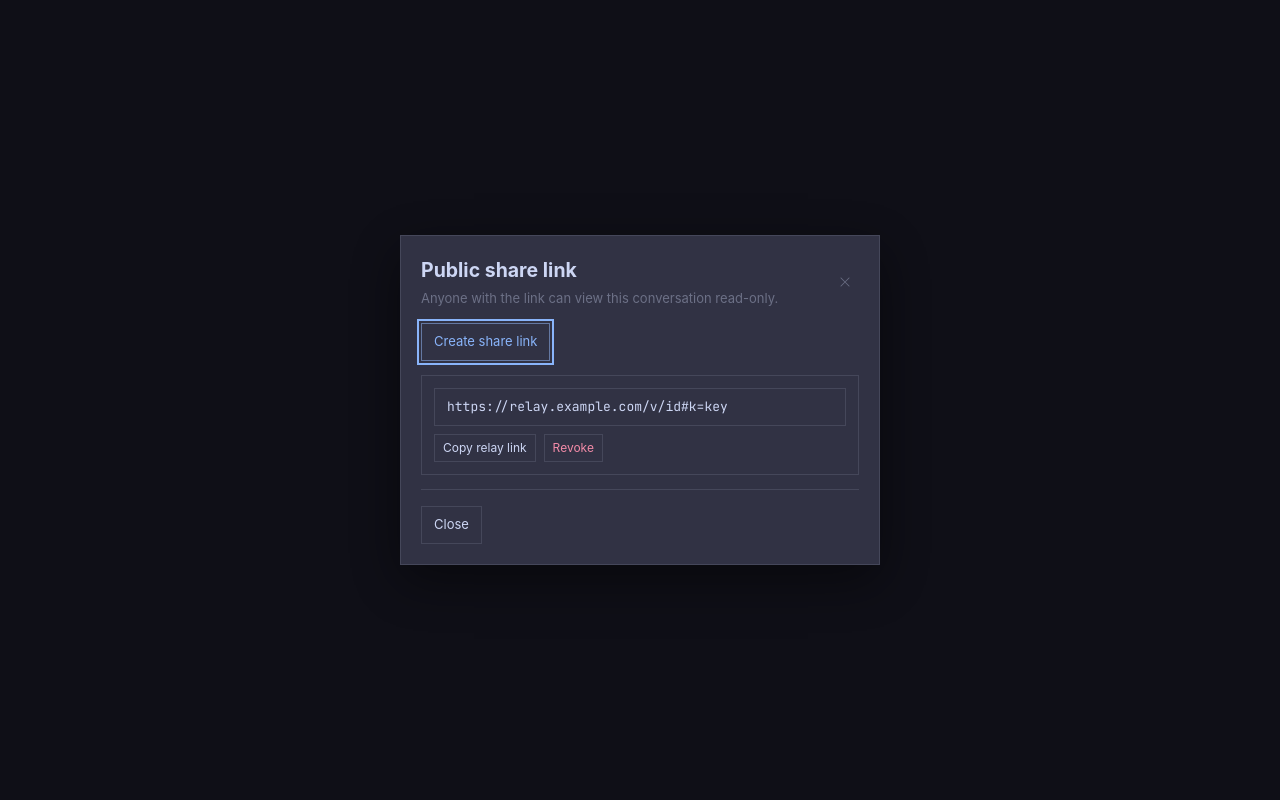
Test: ShareLinkModal › confirms a manual copy
The image size is (1280, 800).
Click the button with test id "share-copy-link". click: x=485, y=448
box: [434,434,536,462]
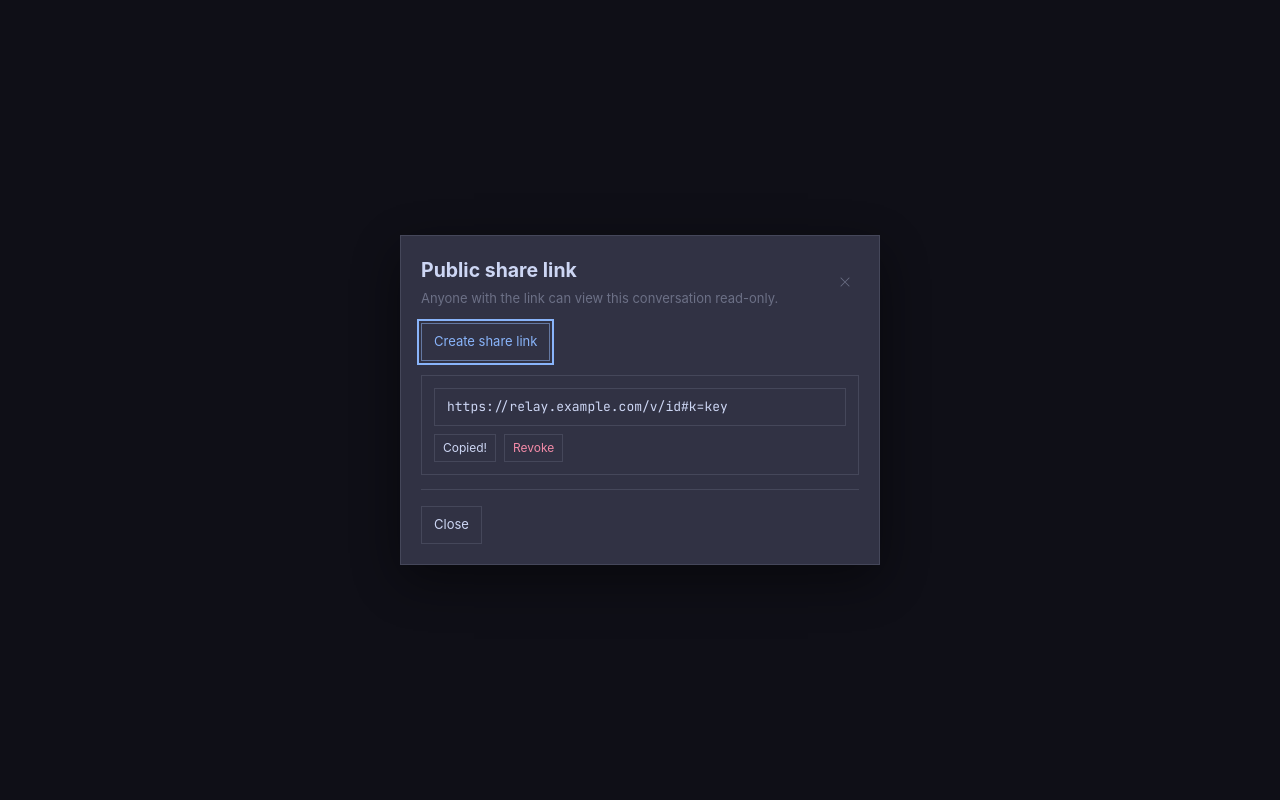
Now the button with test id "share-copy-link" reads "Copied!", box [434,434,496,462]
